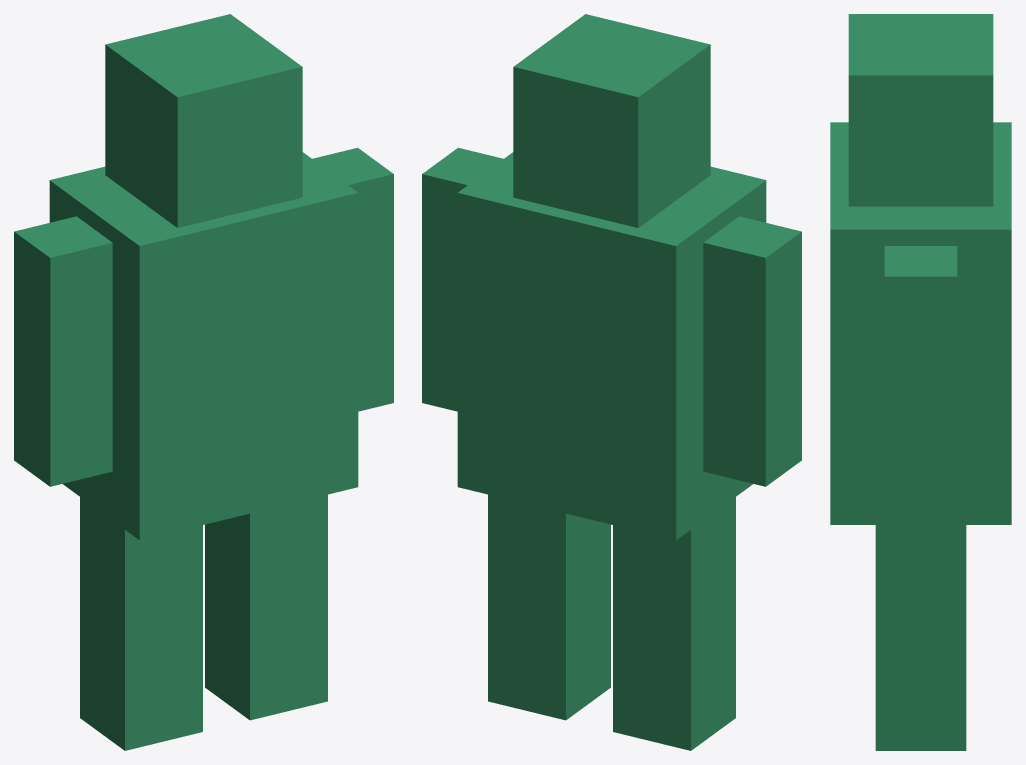
Rendered from Zombie.fbx.
3 renders of one model, left to right at view 1: azimuth 30°, elevation 25°; view 2: azimuth 150°, elevation 25°; view 3: azimuth 270°, elevation 25°, orthographic.
Parts seen in each view (by area): view 1: Body, Head, LegR, HandR, LegL, HandL; view 2: Body, Head, LegR, HandR, LegL, HandL; view 3: Body, Head, LegL, HandL.
Boxes of the visible parts, x1=… form: Body: x1=49, y1=152, x2=358, y2=540; Head: x1=105, y1=14, x2=302, y2=227; LegR: x1=80, y1=497, x2=202, y2=750; HandR: x1=14, y1=216, x2=112, y2=486; LegL: x1=205, y1=494, x2=327, y2=720; HandL: x1=312, y1=147, x2=393, y2=411; Body: x1=457, y1=152, x2=766, y2=540; Head: x1=513, y1=14, x2=710, y2=227; LegR: x1=613, y1=497, x2=735, y2=750; HandR: x1=703, y1=216, x2=801, y2=486; LegL: x1=488, y1=494, x2=610, y2=720; HandL: x1=422, y1=147, x2=503, y2=411; Body: x1=830, y1=122, x2=1011, y2=524; Head: x1=848, y1=14, x2=993, y2=206; LegL: x1=875, y1=525, x2=966, y2=750; HandL: x1=884, y1=246, x2=957, y2=506.
Bounding box in the file's own units: 220 × 400 × 100.
